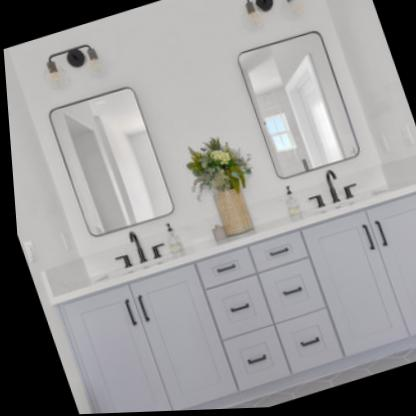Cabinet: (48, 260, 232, 415), (187, 227, 340, 395), (293, 187, 416, 363)
